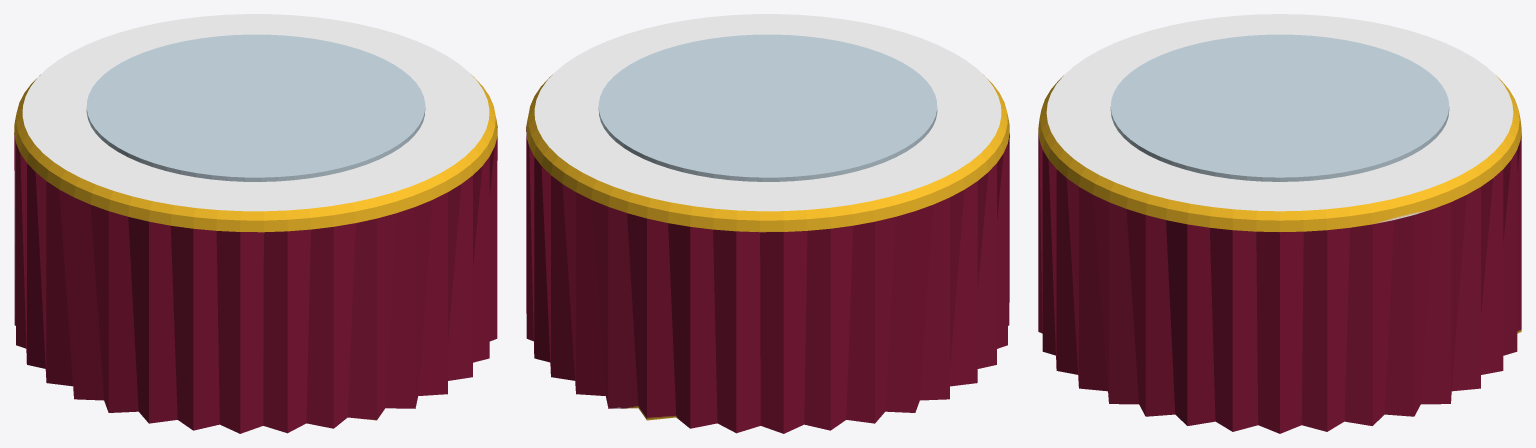
Rendered from DinnerTable.fbx.
3 renders of one model, left to right at view 1: azimuth 30°, elevation 25°; view 2: azimuth 150°, elevation 25°; view 3: azimuth 270°, elevation 25°, orthographic.
Parts seen in each view (by area): view 1: Table, Spinner; view 2: Table, Spinner; view 3: Table, Spinner.
Boxes of the visible parts, bbox=[...] form: Table: bbox=[14, 14, 497, 433]; Spinner: bbox=[86, 34, 425, 181]; Table: bbox=[526, 14, 1009, 433]; Spinner: bbox=[598, 34, 937, 181]; Table: bbox=[1038, 14, 1521, 433]; Spinner: bbox=[1110, 34, 1449, 181].
Size of the model in its own units: 200 by 200 by 103.
2 materials, 1 textured.
